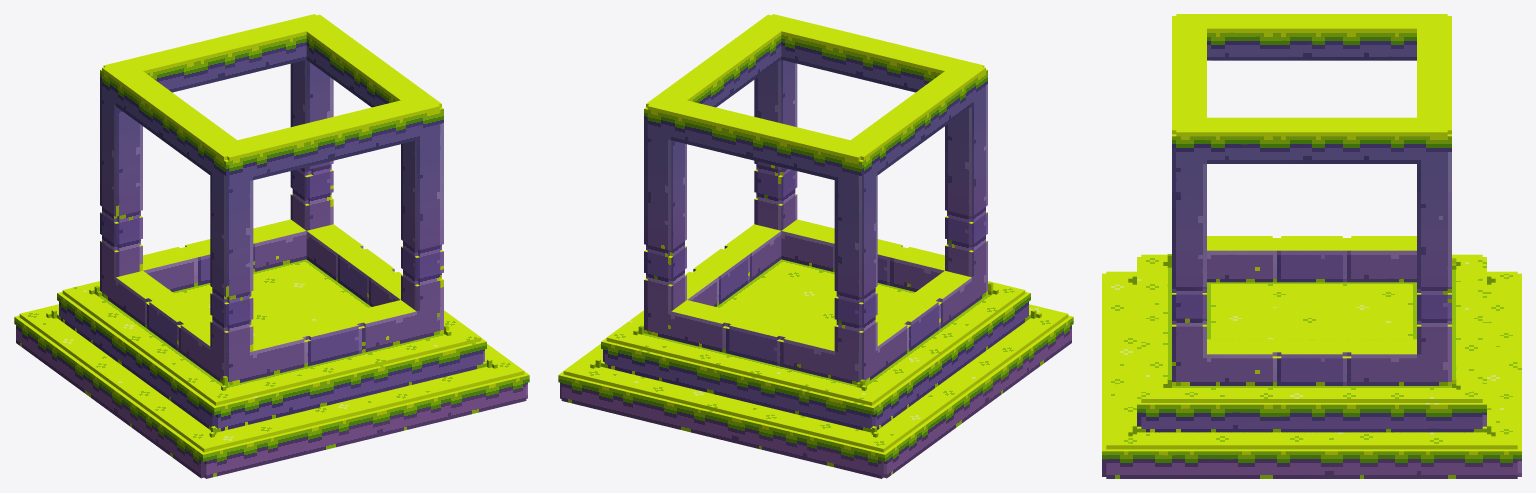
Rendered from gateao.fezao.glb.
3 views of the same model, side by side, from view 1: azimuth 30°, elevation 25°; view 2: azimuth 150°, elevation 25°; view 3: azimuth 270°, elevation 25° (orthographic). The views are drawn at different scales.
Visible parts, largest first — view 1: GATEAO; view 2: GATEAO; view 3: GATEAO.
Part boxes in pixels (bbox=[...]): GATEAO: bbox=[14, 14, 529, 478]; GATEAO: bbox=[558, 14, 1073, 478]; GATEAO: bbox=[1102, 14, 1521, 478].
Bounding box in the file's own units: 6 × 5 × 6.
Materials: 1 (1 with a texture image).
